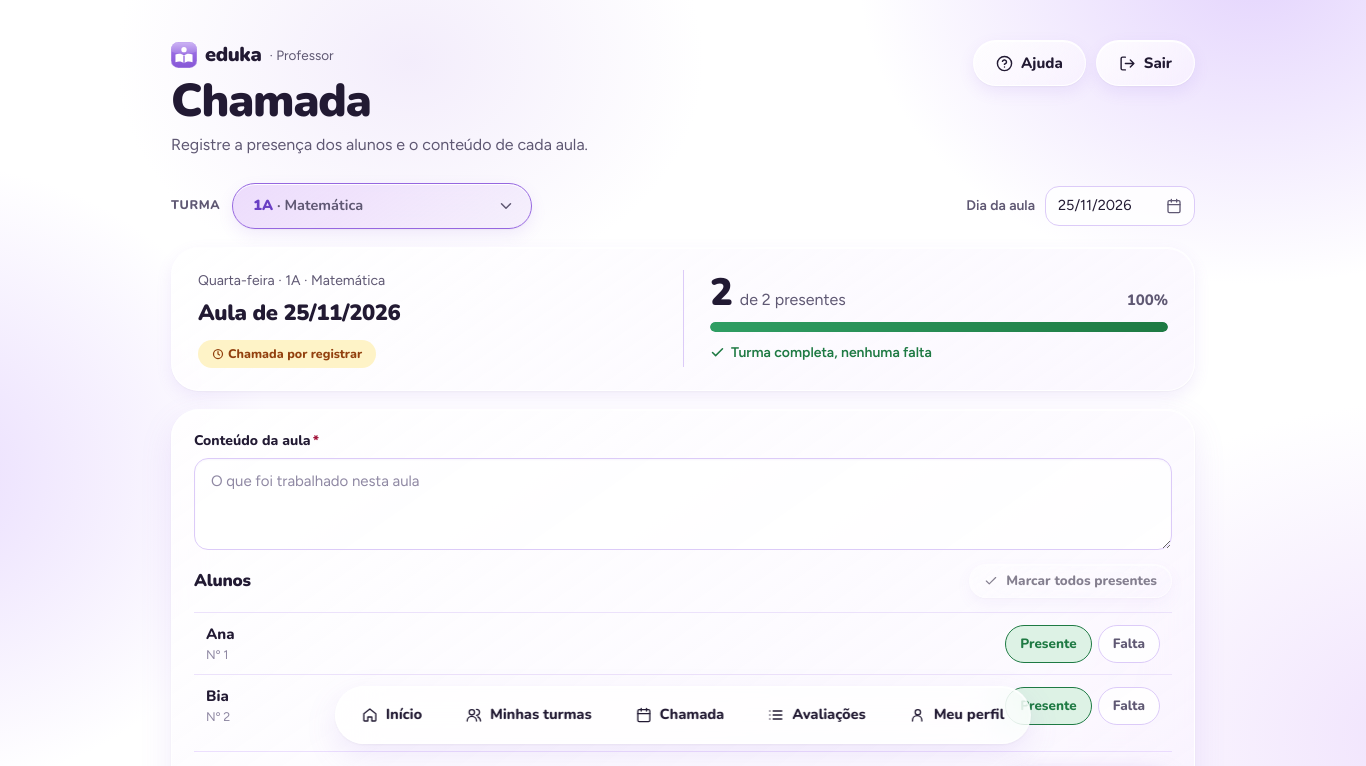
it: Chamada › explica a recusa quando a lista de alunos mudou e mantém o que foi digitado
Type "Frações" into the text box labelled "Conteúdo da aula*" at (683, 504), box [194,458,1172,550]
(page scrolled)
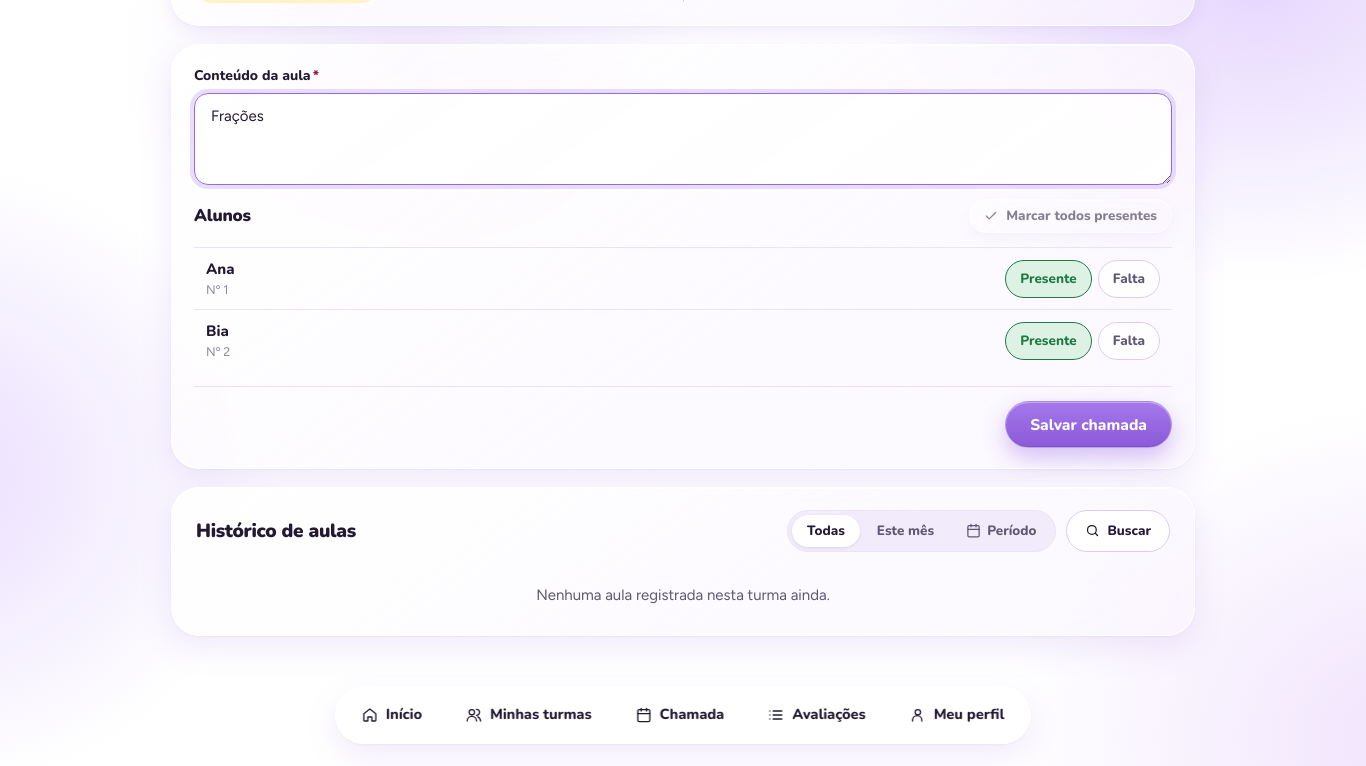
Click the button "Salvar chamada" at (1089, 424), box [1005,401,1172,448]
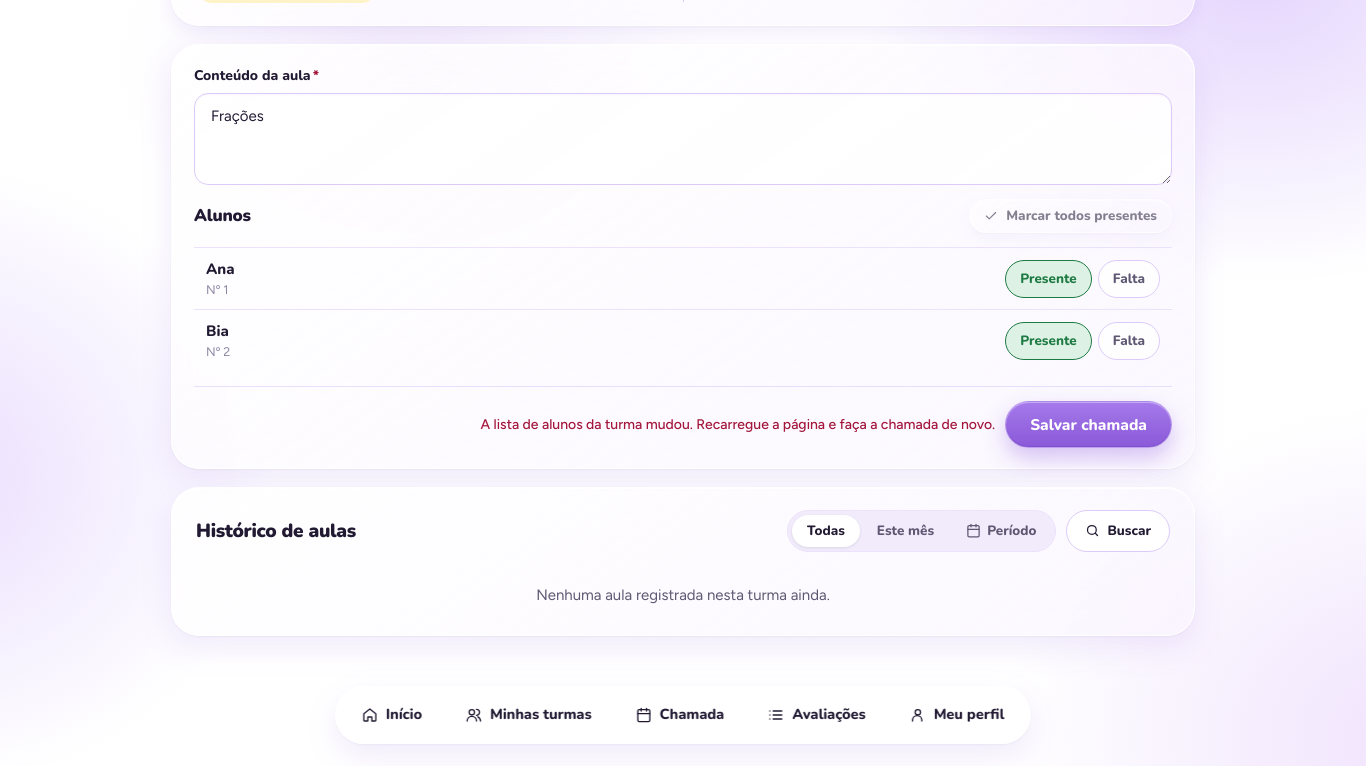
Expected: the message shows "A lista de alunos da turma mudou", [480,416,995,433]
